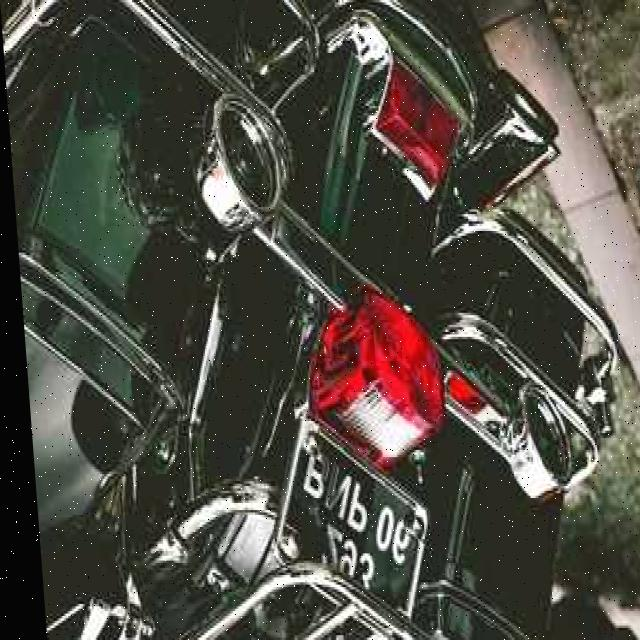plate: (255, 419, 428, 629)
